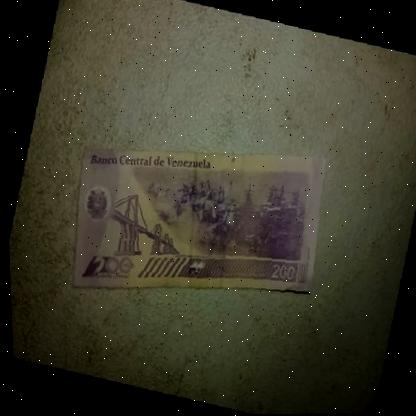two_hundred-back-vef: (56, 112, 334, 328)
